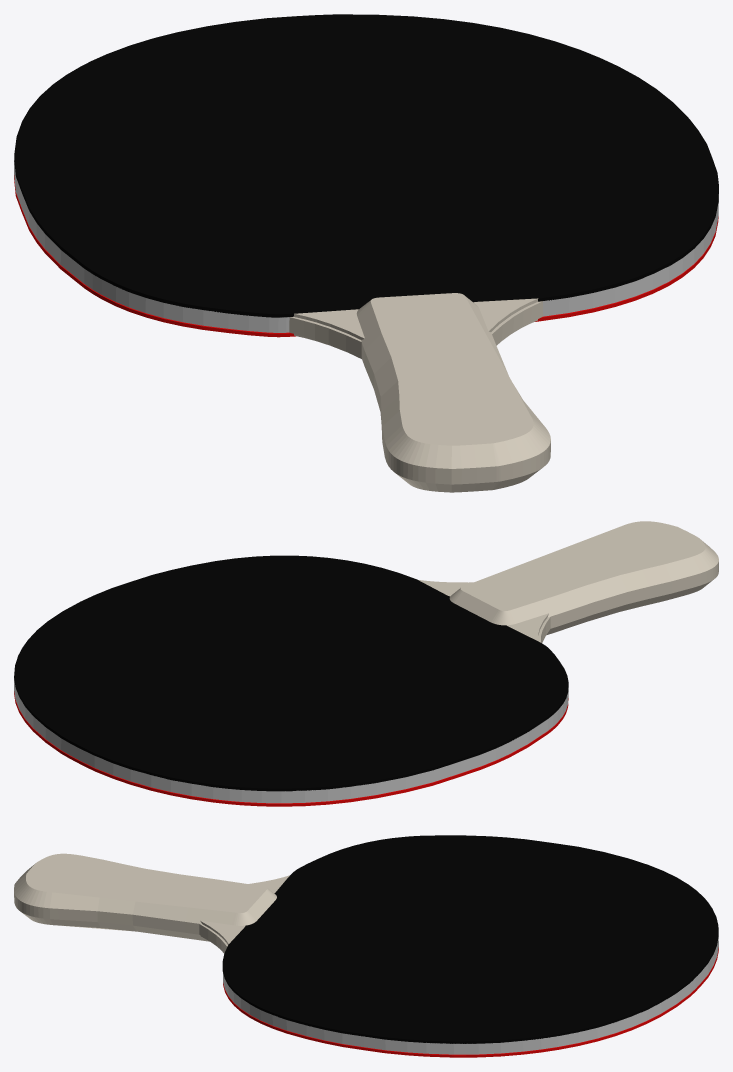
Rendered from PingPongPaddle.fbx.
3 views of the same model, one above another, from view 1: azimuth 30°, elevation 25°; view 2: azimuth 150°, elevation 25°; view 3: azimuth 270°, elevation 25° (orthographic). The views are drawn at different scales.
Visible parts, largest first — view 1: Ping_Pong_Paddle; view 2: Ping_Pong_Paddle; view 3: Ping_Pong_Paddle.
Part boxes in pixels (x1,y1,x2,y2): Ping_Pong_Paddle: (14, 14, 718, 492); Ping_Pong_Paddle: (14, 521, 718, 806); Ping_Pong_Paddle: (14, 835, 718, 1057).
Size of the model in its own units: 203 by 16.69 by 292.
